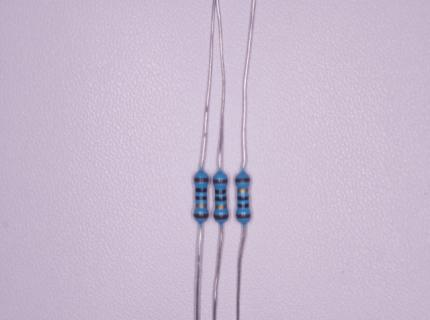Black band: (195, 196, 207, 200), (195, 188, 207, 192), (237, 196, 249, 200), (215, 190, 226, 194), (215, 197, 226, 201), (238, 204, 249, 207)
Brown band: (194, 214, 209, 218), (194, 178, 208, 182), (236, 178, 250, 182), (214, 215, 228, 219), (237, 214, 250, 218), (213, 180, 227, 183)
Gold band: (237, 188, 249, 193), (216, 204, 227, 209), (196, 204, 207, 208)
